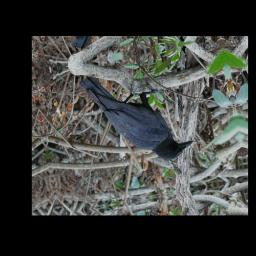Crow: (77, 57, 197, 175)
